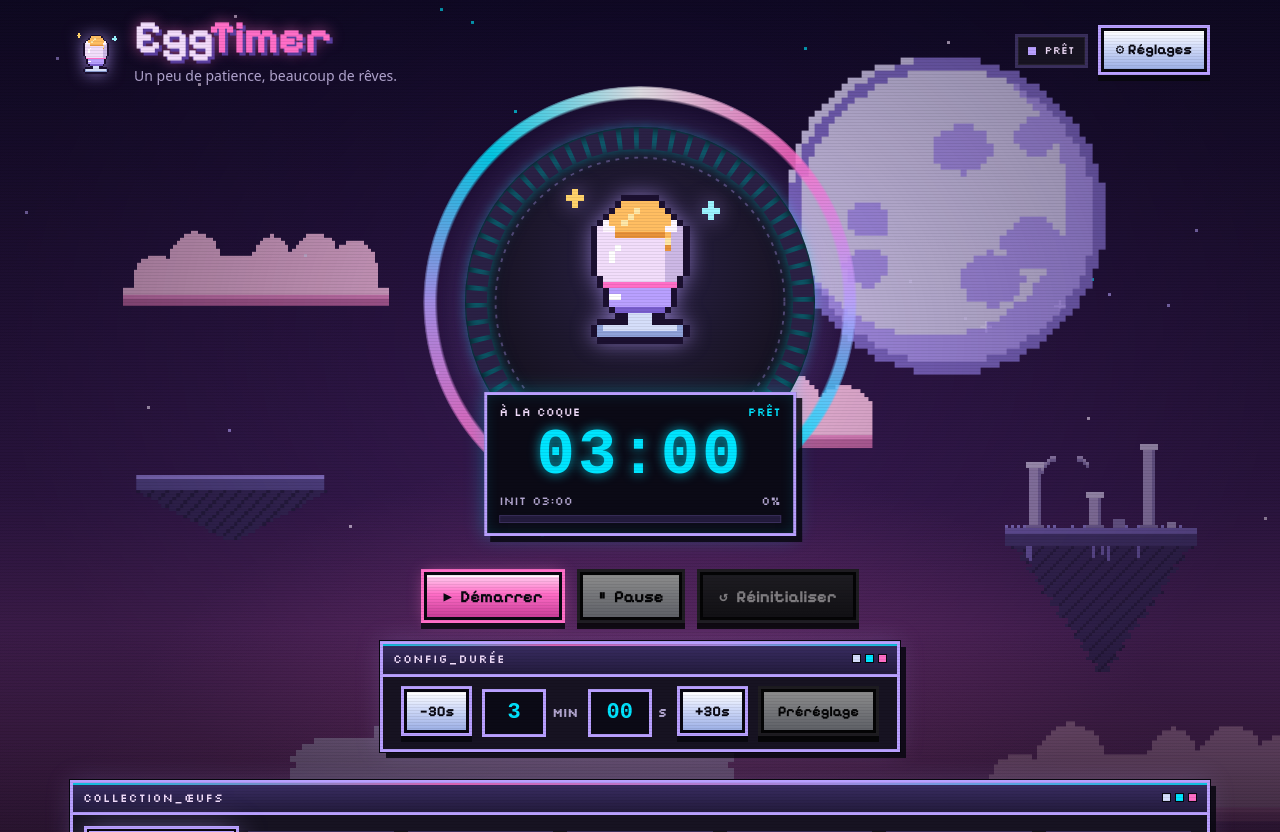
Test case: modale des réglages › ouverture, focus, Échap et retour du focus sur le bouton Réglages
Click the button "⚙ Réglages".
click(1154, 50)  # box [1101,28,1207,72]
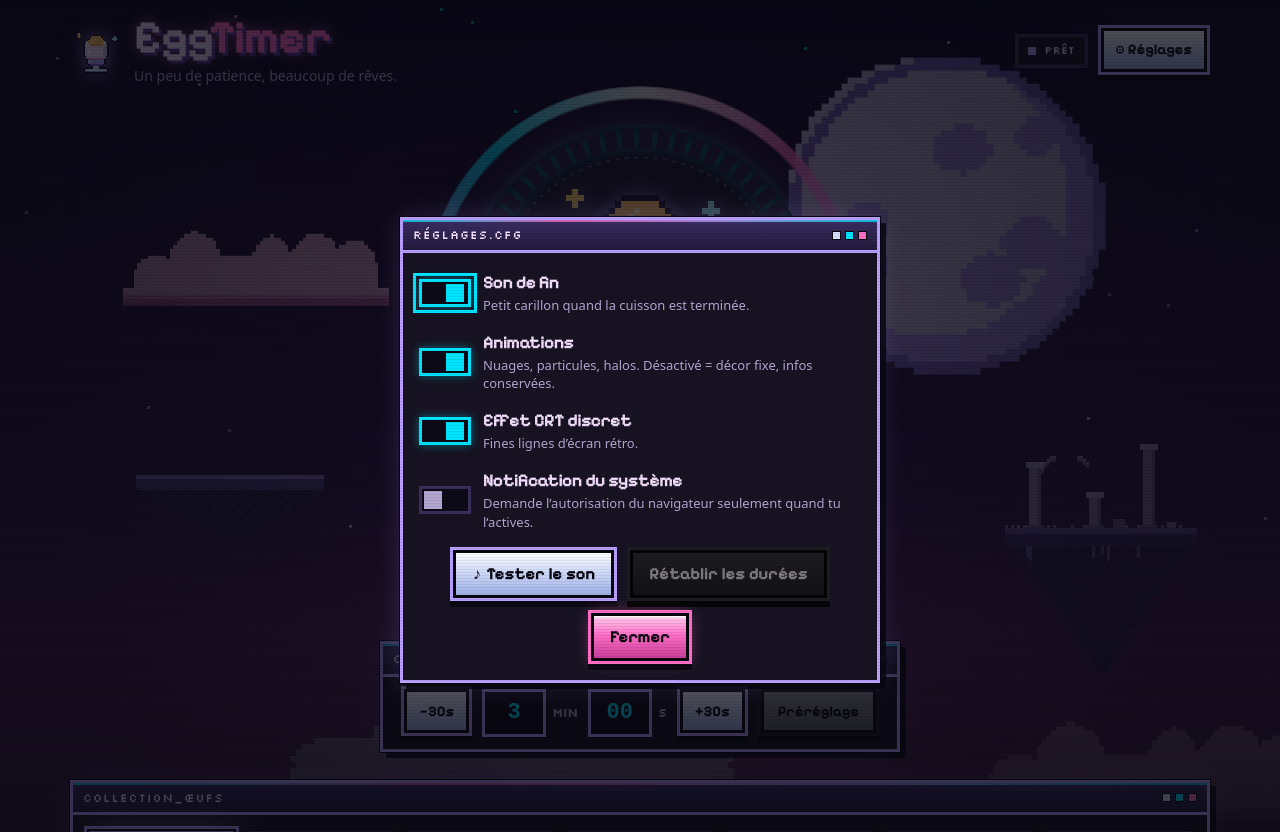
Check: the dialog is shown, box [400,218,880,682]
Press Escape
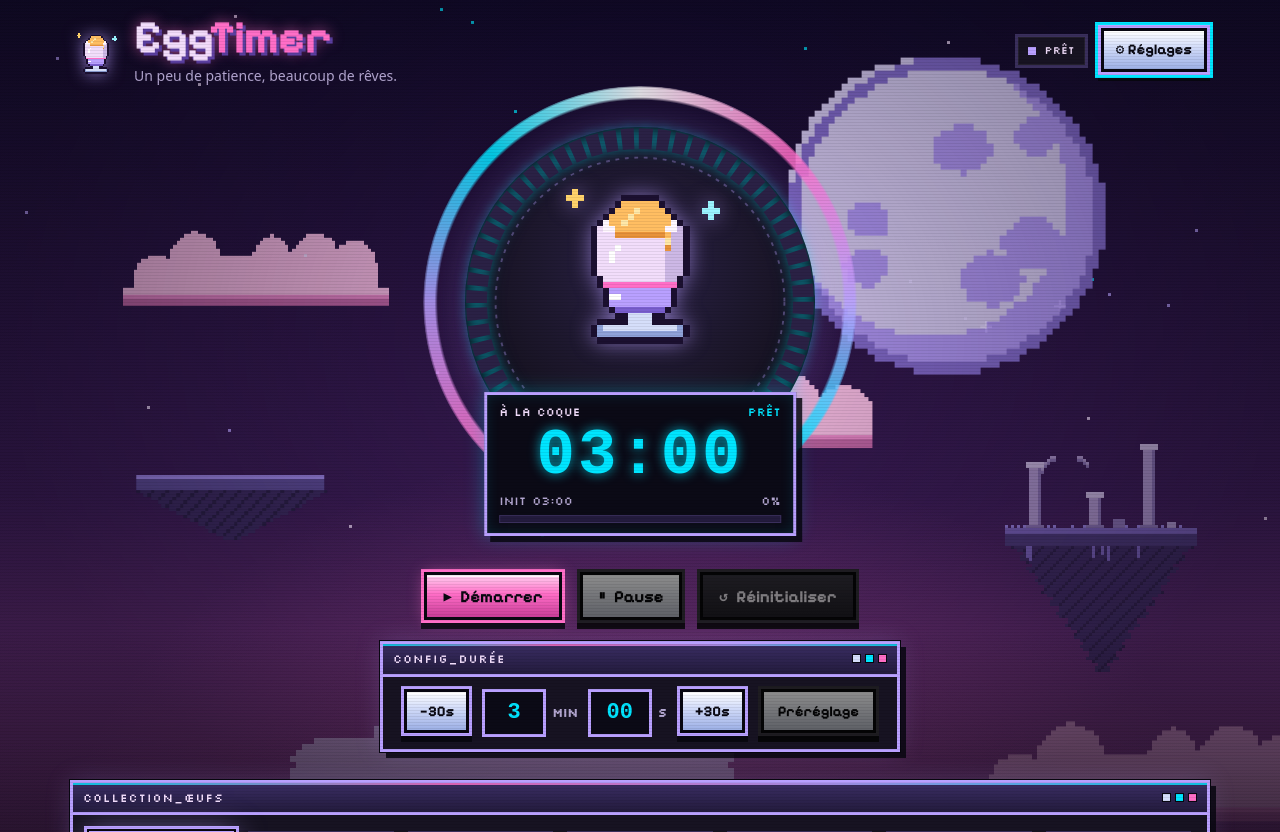
Check: the dialog is gone
